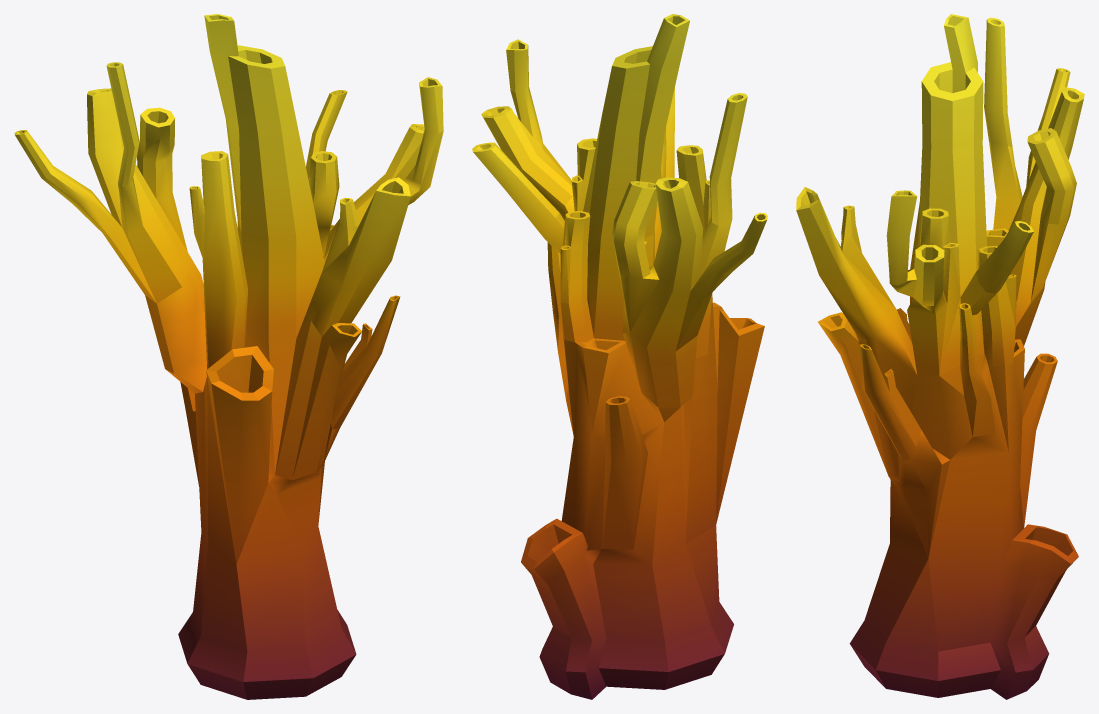
Rendered from coral2.fbx.
3 renders of one model, left to right at view 1: azimuth 30°, elevation 25°; view 2: azimuth 150°, elevation 25°; view 3: azimuth 270°, elevation 25°, orthographic. The views are drawn at different scales.
Visible parts, largest first — view 1: coral2; view 2: coral2; view 3: coral2.
Boxes of the visible parts, x1=… form: coral2: x1=14, y1=14, x2=443, y2=699; coral2: x1=472, y1=14, x2=767, y2=699; coral2: x1=796, y1=14, x2=1084, y2=699.
Bounding box in the file's own units: 0.00902 × 0.0162 × 0.00665.
1 material, 1 textured.
